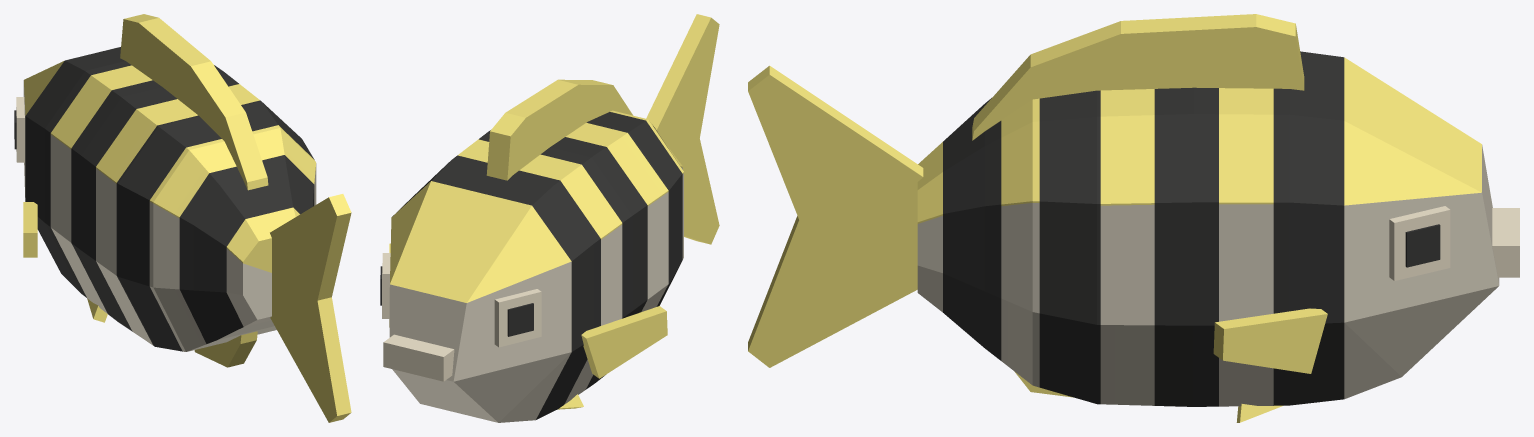
Rendered from SergeantMajor.obj.
The picture shows the model from 3 angles, left to right: view 1: azimuth 30°, elevation 25°; view 2: azimuth 150°, elevation 25°; view 3: azimuth 270°, elevation 25°; orthographic projection. The views are drawn at different scales.
Parts seen in each view (by area): view 1: SergeantMajor; view 2: SergeantMajor; view 3: SergeantMajor.
Part boxes in pixels (x1,y1,x2,y2): SergeantMajor: [14, 14, 351, 422]; SergeantMajor: [380, 14, 719, 422]; SergeantMajor: [748, 14, 1519, 422].
Size of the model in its own units: 6.73 by 6.75 by 12.51.
1 material, 1 textured.
